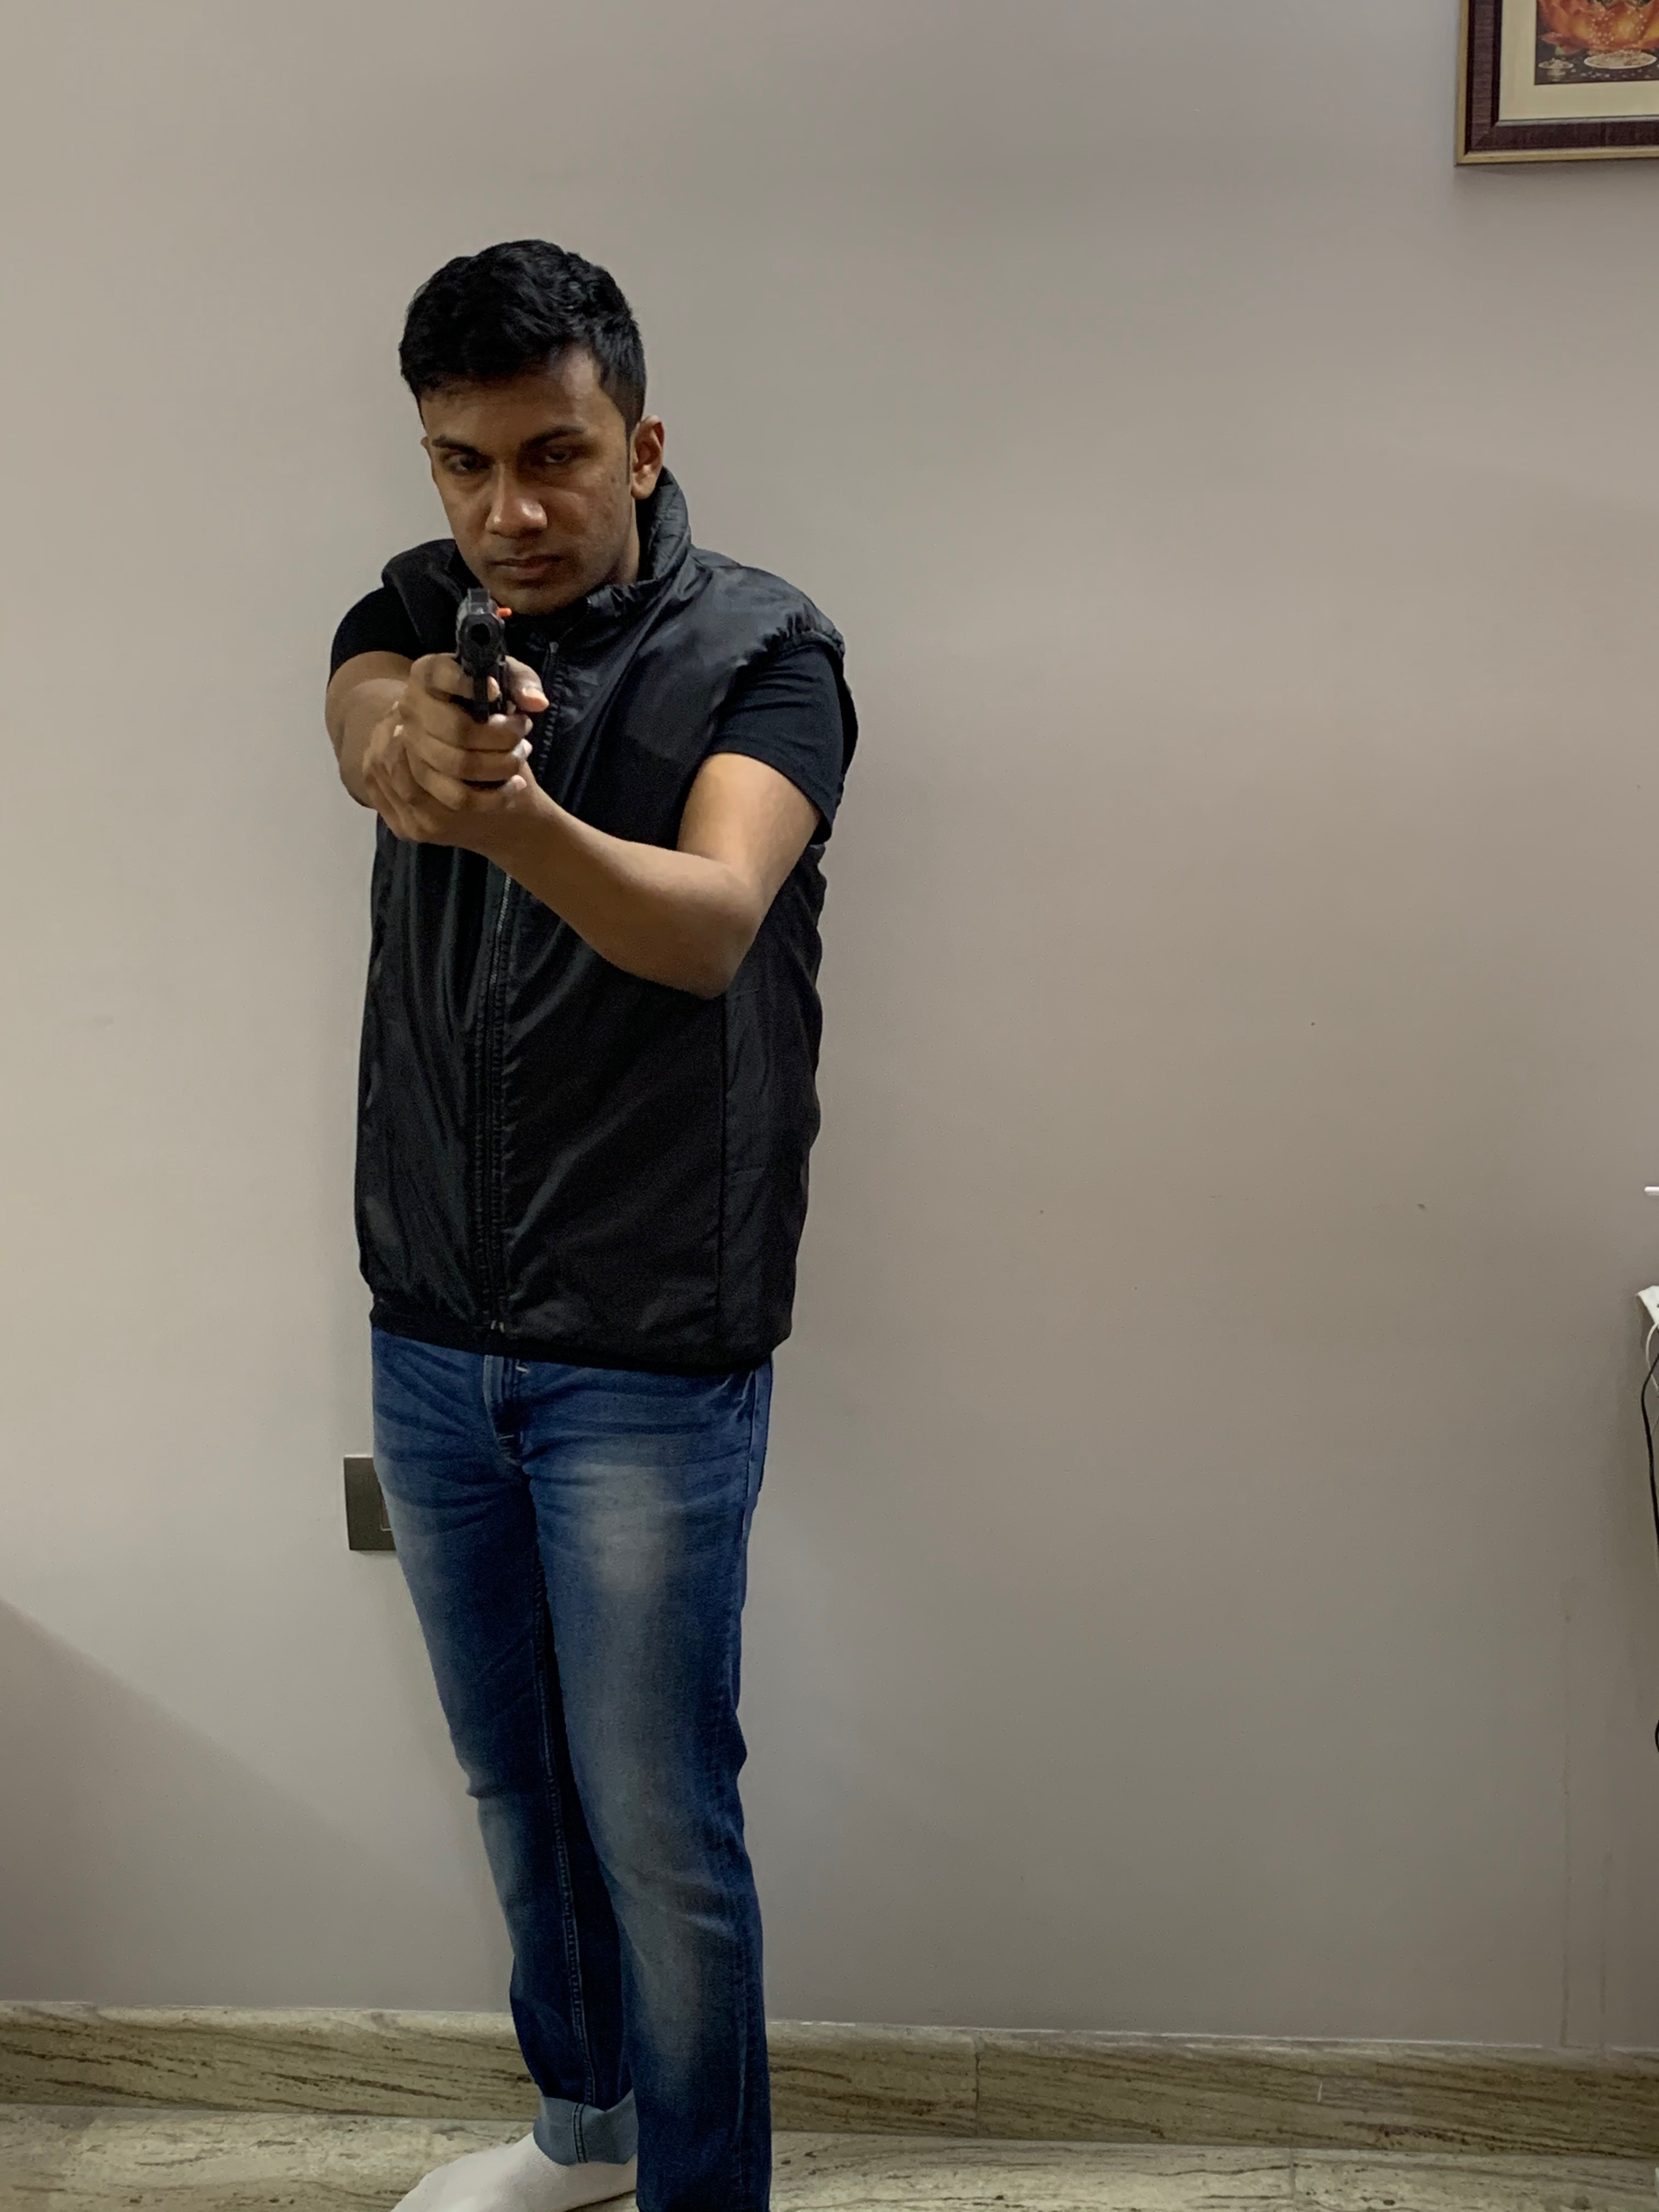gun: (450, 583, 512, 726)
